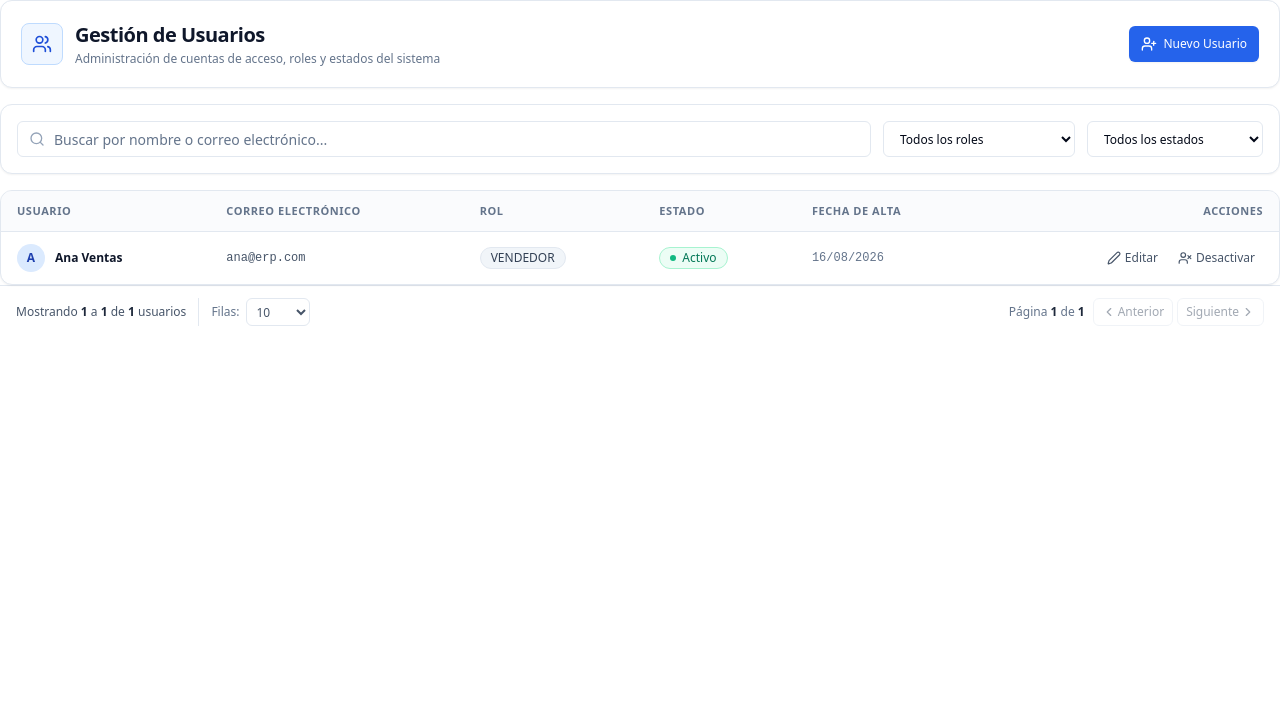
Scenario: UsersPage administrative user management › Deactivation, Self-Protection, and Invariants › displays actionable error message when backend rejects last admin deactivation
Click the button "Desactivar" at [1216, 258], box x1=1170 y1=244 x2=1263 y2=272
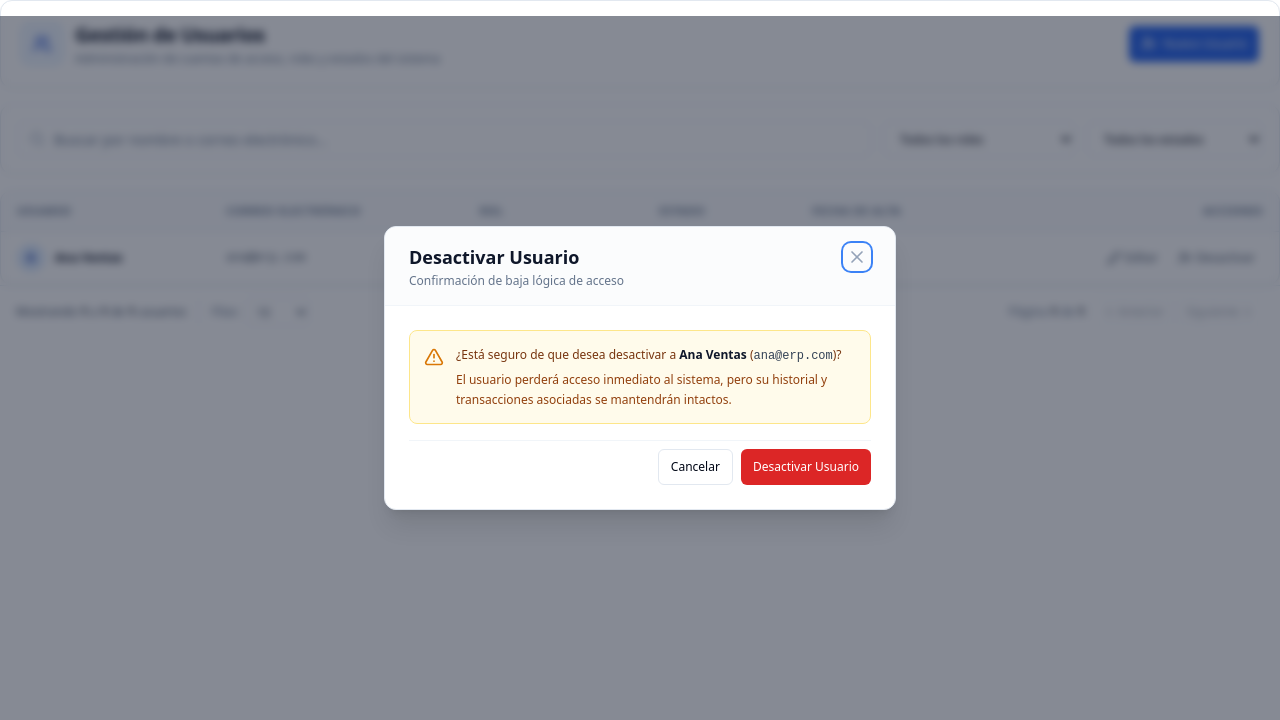
Click the button "Desactivar Usuario" at [806, 467], box x1=741 y1=449 x2=871 y2=485
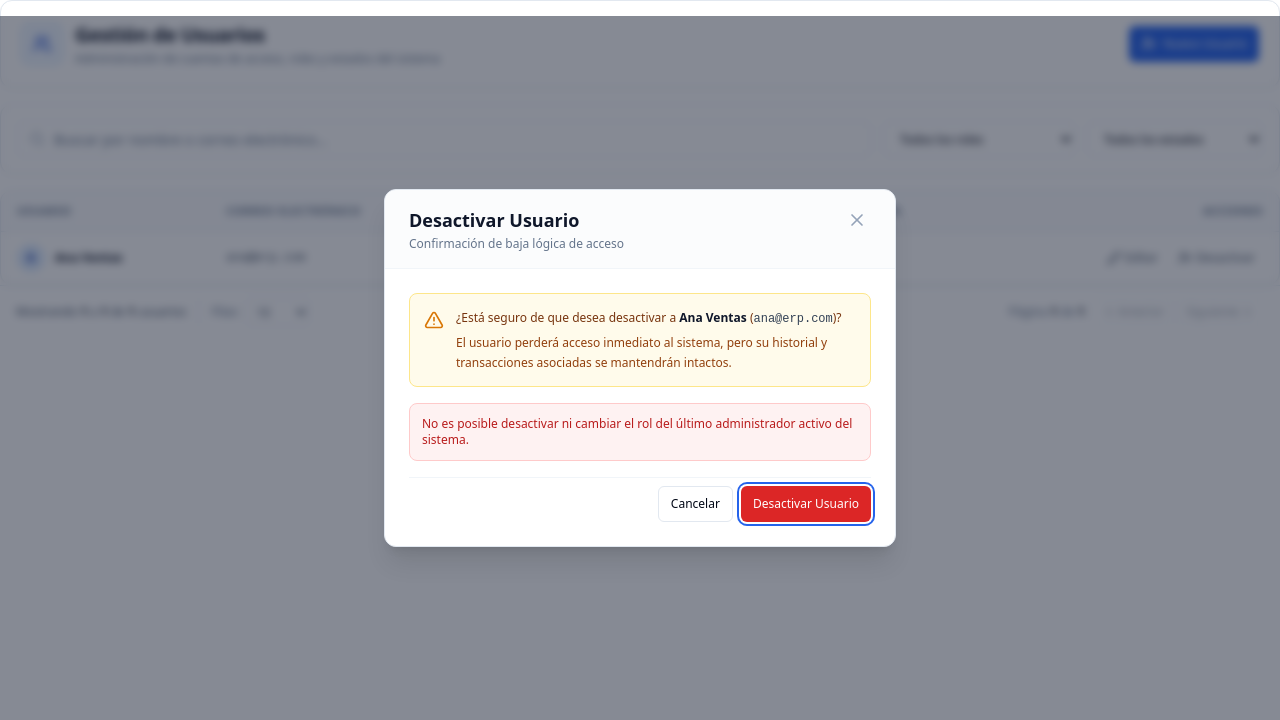
Result: the text "No es posible desactivar ni cambiar el rol del último administrador activo del sistema." is shown at x1=422 y1=415 x2=852 y2=448
